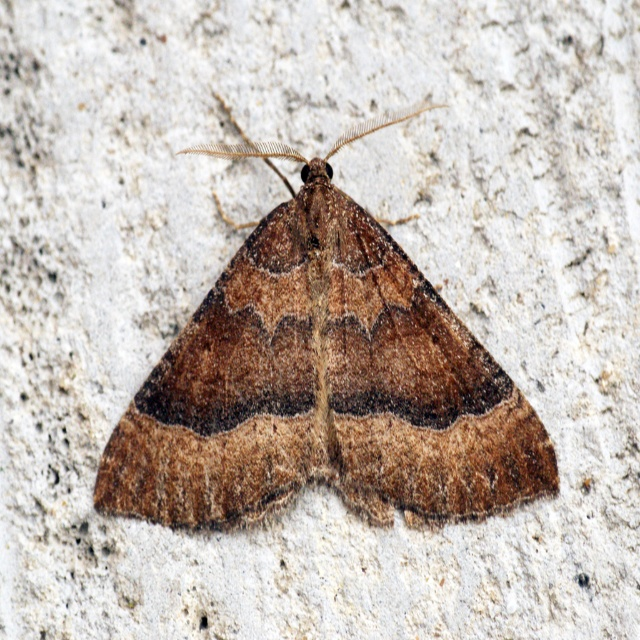Moths and butterflies: (90, 93, 562, 535)
